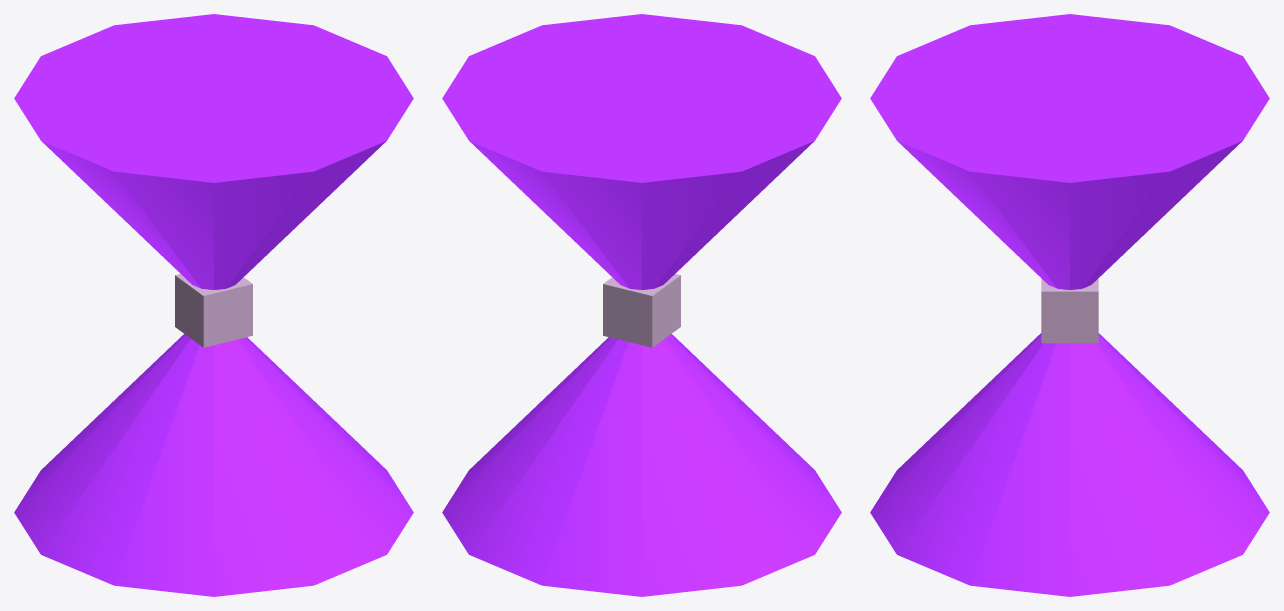
The model's file is powerup_slowmo.glb.
The picture shows the model from 3 angles, left to right: view 1: azimuth 30°, elevation 25°; view 2: azimuth 150°, elevation 25°; view 3: azimuth 270°, elevation 25°; orthographic projection.
Visible parts, largest first — view 1: powerup_slowmo; view 2: powerup_slowmo; view 3: powerup_slowmo.
Boxes of the visible parts, bbox=[...] form: powerup_slowmo: bbox=[14, 14, 413, 596]; powerup_slowmo: bbox=[442, 14, 841, 596]; powerup_slowmo: bbox=[870, 14, 1269, 596].
Size of the model in its own units: 0.7 by 0.8 by 0.7.
